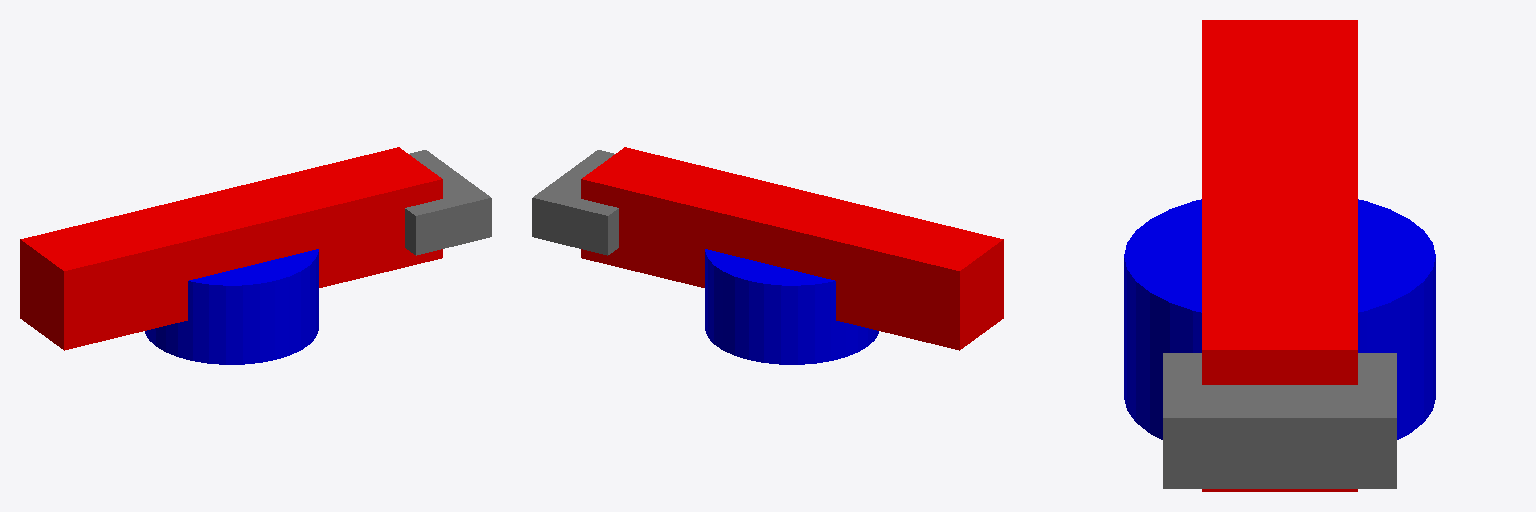
URDF robot description (simple_arm):
<?xml version="1.0"?>
<robot name="simple_arm">
    <link name="base_link">
        <visual>
            <geometry>
                <cylinder radius="0.1" length="0.1"/>
            </geometry>
            <material name="blue">
                <color rgba="0 0 1 1"/>
            </material>
        </visual>
        <collision>
            <geometry>
                <cylinder radius="0.1" length="0.1"/>
            </geometry>
        </collision>
        <inertial>
            <mass value="1"/>
            <inertia ixx="0.1" ixy="0" ixz="0" iyy="0.1" iyz="0" izz="0.1"/>
        </inertial>
    </link>

    <link name="arm_link">
        <visual>
            <geometry>
                <box size="0.5 0.1 0.1"/>
            </geometry>
            <material name="red">
                <color rgba="1 0 0 1"/>
            </material>
        </visual>
        <collision>
            <geometry>
                <box size="0.5 0.1 0.1"/>
            </geometry>
        </collision>
        <inertial>
            <mass value="1"/>
            <inertia ixx="0.1" ixy="0" ixz="0" iyy="0.1" iyz="0" izz="0.1"/>
        </inertial>
    </link>

    <link name="gripper_link">
        <visual>
            <geometry>
                <box size="0.1 0.15 0.05"/>
            </geometry>
            <material name="gray">
                <color rgba="0.5 0.5 0.5 1"/>
            </material>
        </visual>
        <collision>
            <geometry>
                <box size="0.1 0.15 0.05"/>
            </geometry>
        </collision>
        <inertial>
            <mass value="0.5"/>
            <inertia ixx="0.1" ixy="0" ixz="0" iyy="0.1" iyz="0" izz="0.1"/>
        </inertial>
    </link>

    <joint name="base_to_arm" type="revolute">
        <parent link="base_link"/>
        <child link="arm_link"/>
        <origin xyz="0 0 0.05" rpy="0 0 0"/>
        <axis xyz="0 0 1"/>
        <limit lower="-3.14" upper="3.14" effort="100" velocity="1"/>
    </joint>

    <joint name="arm_to_gripper" type="revolute">
        <parent link="arm_link"/>
        <child link="gripper_link"/>
        <origin xyz="0.25 0 0" rpy="0 0 0"/>
        <axis xyz="0 1 0"/>
        <limit lower="-1.57" upper="1.57" effort="100" velocity="1"/>
    </joint>
</robot> 

--- Facts derived from the render (not from the file) ---
Views: 3 orthographic renders of the robot side by side, from view 1: azimuth 30°, elevation 25°; view 2: azimuth 150°, elevation 25°; view 3: azimuth 270°, elevation 25°.
Model simple_arm with 3 links and 2 joints (2 revolute), rooted at base_link, posed every joint at zero.
Visible links, largest first — view 1: arm_link, base_link, gripper_link; view 2: arm_link, base_link, gripper_link; view 3: arm_link, base_link, gripper_link.
Link boxes in pixels (bbox=[...]): arm_link: bbox=[20, 147, 442, 350]; base_link: bbox=[145, 249, 318, 364]; gripper_link: bbox=[405, 150, 491, 255]; arm_link: bbox=[581, 147, 1003, 350]; base_link: bbox=[705, 249, 878, 364]; gripper_link: bbox=[532, 150, 618, 255]; arm_link: bbox=[1202, 20, 1357, 491]; base_link: bbox=[1124, 199, 1435, 439]; gripper_link: bbox=[1163, 353, 1396, 488].
Bounding box of the posed robot: 0.55 × 0.2 × 0.15 m (x, y, z).
Geometry: primitives only (box / cylinder / sphere), no mesh files.